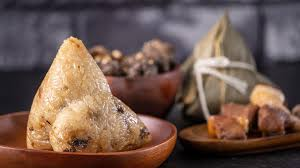zongzi: (26, 36, 150, 151), (179, 13, 270, 119)
